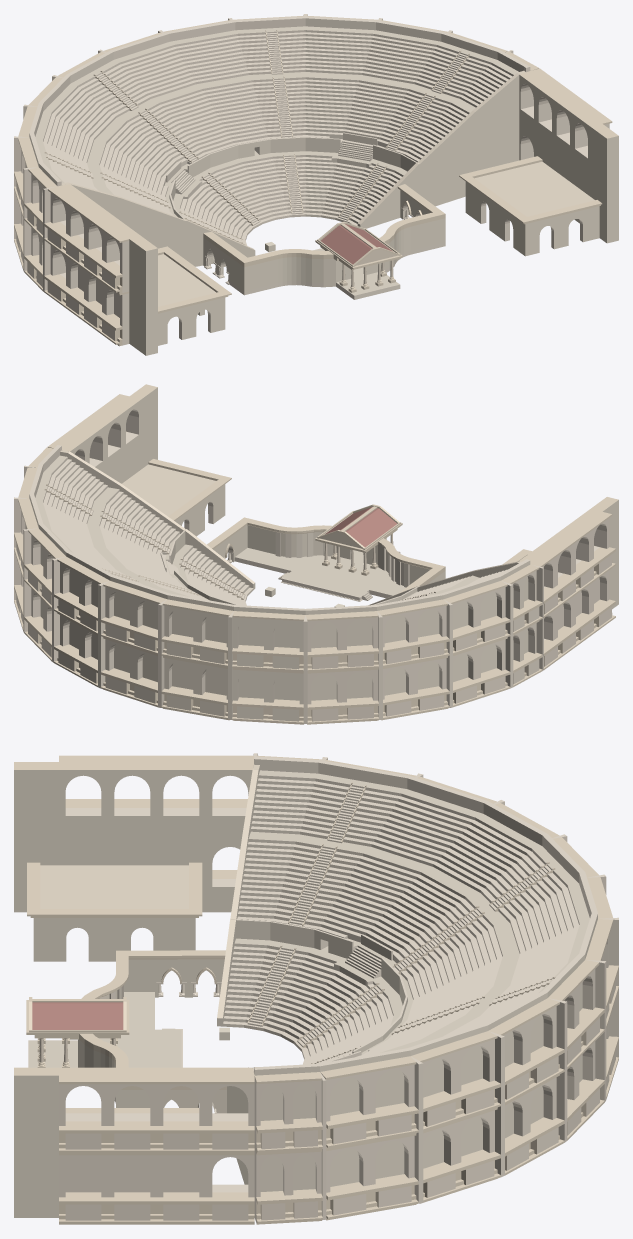
The model's file is Colloseum.fbx.
3 renders of one model, top to bottom at view 1: azimuth 30°, elevation 25°; view 2: azimuth 150°, elevation 25°; view 3: azimuth 270°, elevation 25°, orthographic. The views are drawn at different scales.
Parts seen in each view (by area): view 1: buildings7; view 2: buildings7; view 3: buildings7.
Part boxes in pixels (<box>): buildings7: <box>14,14,618,355</box>; buildings7: <box>14,384,618,724</box>; buildings7: <box>14,753,618,1224</box>.
Size of the model in its own units: 152 by 31.59 by 117.
